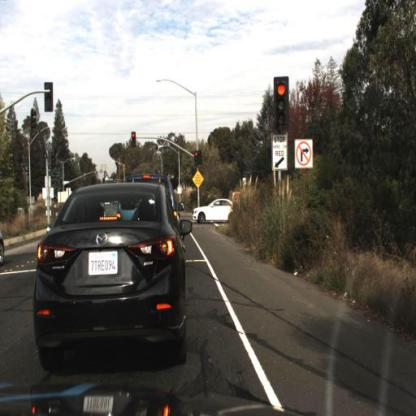car: (34, 183, 191, 379), (192, 197, 244, 228), (193, 198, 236, 226)
trafficLight-Red: (271, 75, 291, 132), (131, 130, 139, 151), (193, 150, 200, 168)
